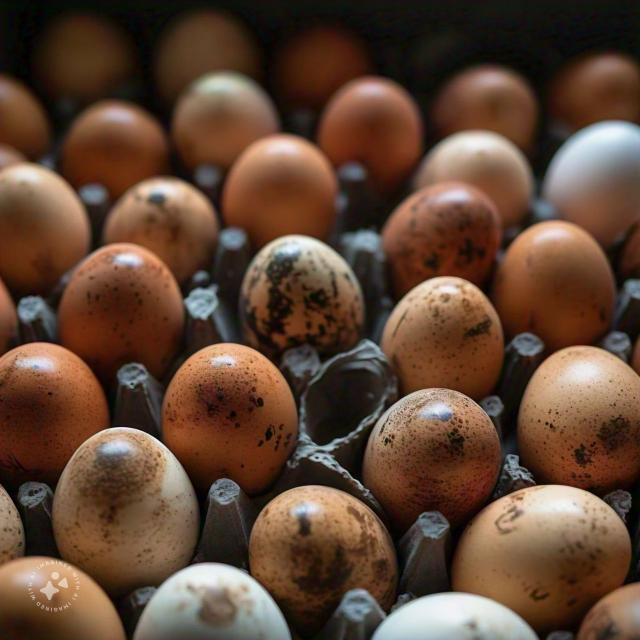Dirt Stained Egg: (35, 417, 208, 580), (520, 329, 640, 504), (230, 478, 397, 600), (166, 342, 300, 485), (246, 227, 386, 350), (349, 392, 494, 509), (38, 240, 177, 360), (387, 267, 501, 399), (388, 182, 508, 276)
